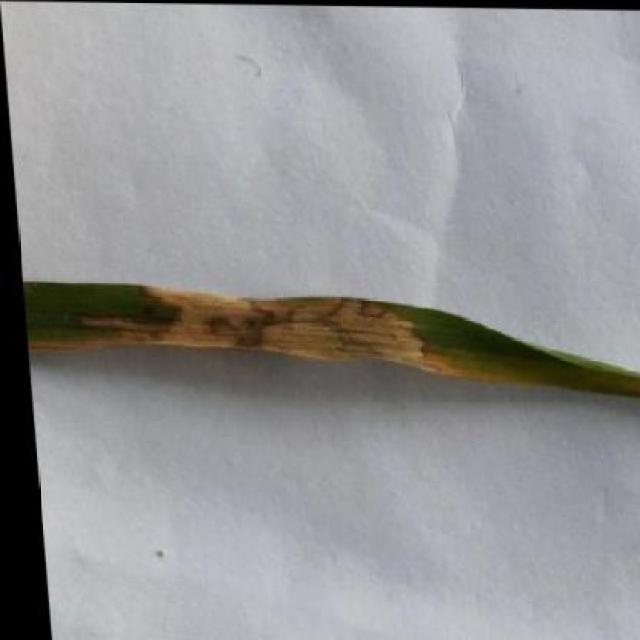Brown_Spot: (17, 272, 640, 408)
